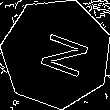N_W: (26, 26, 87, 81)
